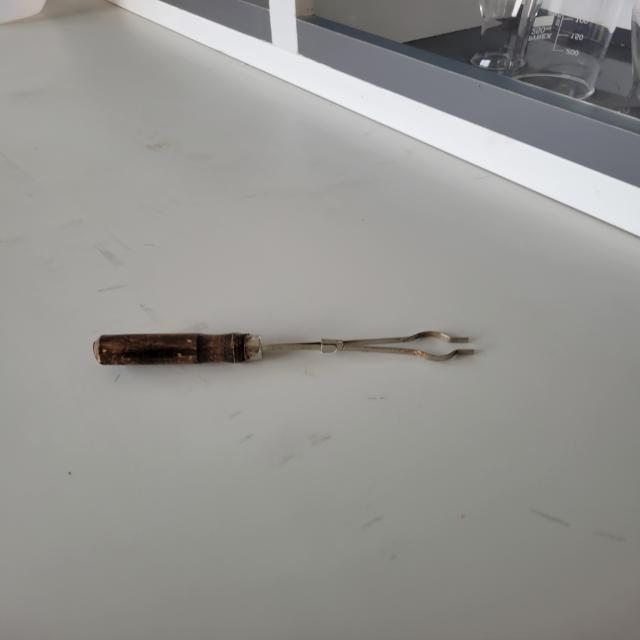TestTube_Holder: (45, 290, 500, 420)
